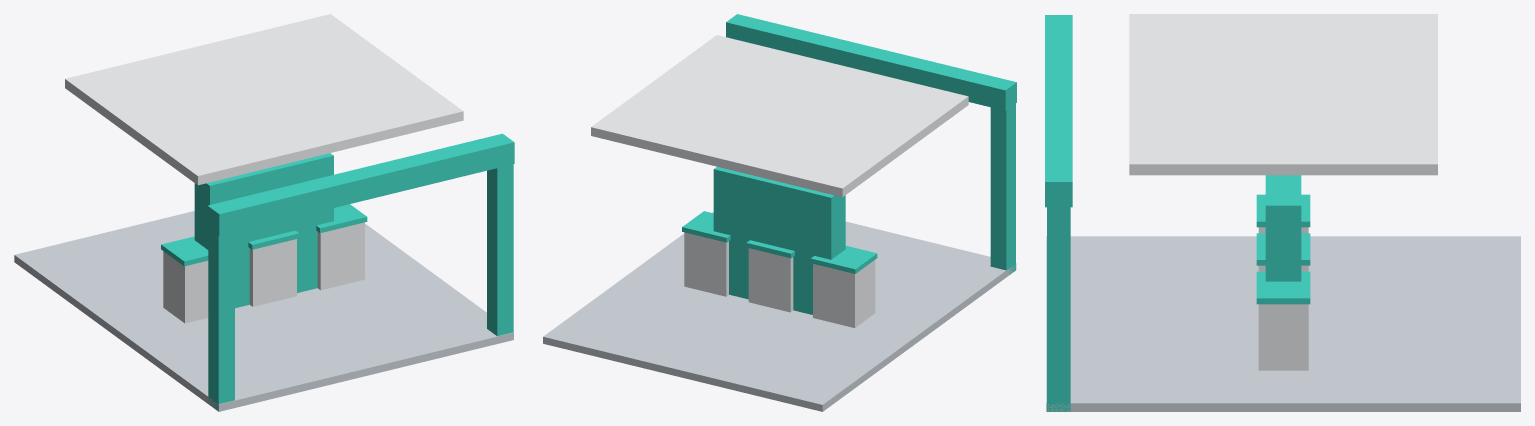
The picture shows the model from 3 angles, left to right: view 1: azimuth 30°, elevation 25°; view 2: azimuth 150°, elevation 25°; view 3: azimuth 270°, elevation 25°; orthographic projection. The views are drawn at different scales.
Parts seen in each view (by area): view 1: Exhibition Booth Concept; view 2: Exhibition Booth Concept; view 3: Exhibition Booth Concept.
Part boxes in pixels (left/top/right/bottom): Exhibition Booth Concept: left=14, top=14, right=514, bottom=411; Exhibition Booth Concept: left=543, top=14, right=1016, bottom=411; Exhibition Booth Concept: left=1045, top=14, right=1520, bottom=411.
Size of the model in its own units: 5 by 3.34 by 6.02.
